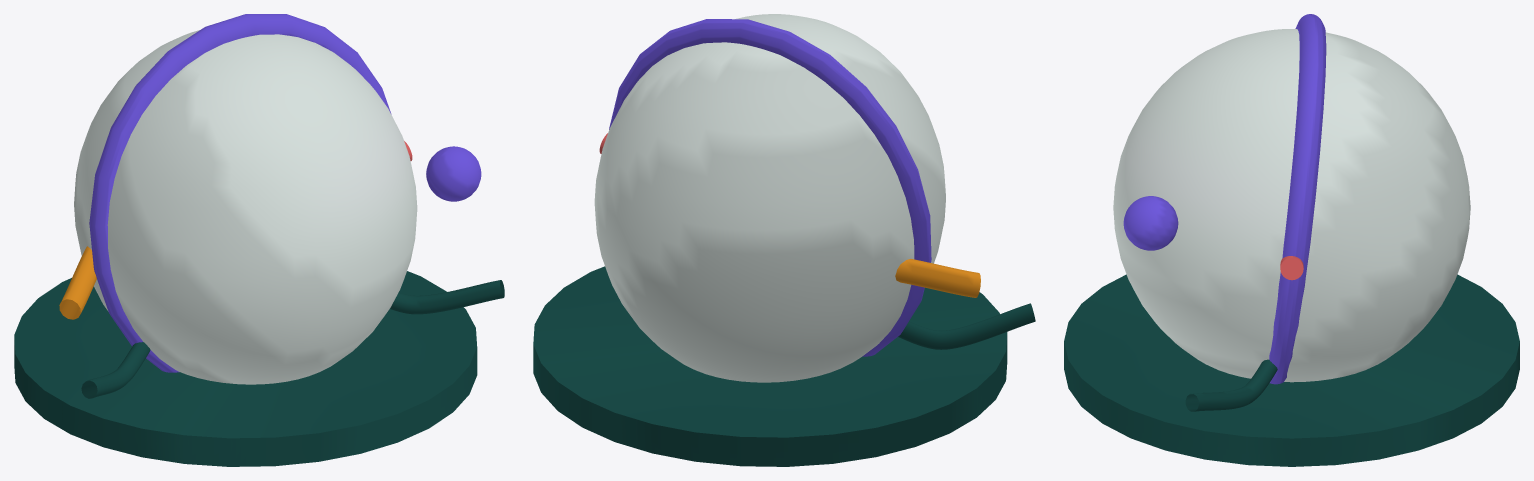
The model's file is 0193_人体图鉴_巨噬细胞.glb.
3 views of the same model, side by side, from view 1: azimuth 30°, elevation 25°; view 2: azimuth 150°, elevation 25°; view 3: azimuth 270°, elevation 25° (orthographic). The views are drawn at different scales.
Visible parts, largest first — view 1: card_0193; view 2: card_0193; view 3: card_0193.
Boxes of the visible parts, x1=… form: card_0193: x1=14, y1=14, x2=504, y2=466; card_0193: x1=533, y1=14, x2=1035, y2=466; card_0193: x1=1064, y1=14, x2=1519, y2=466.
Bounding box in the file's own units: 1.27 × 1 × 1.19.
